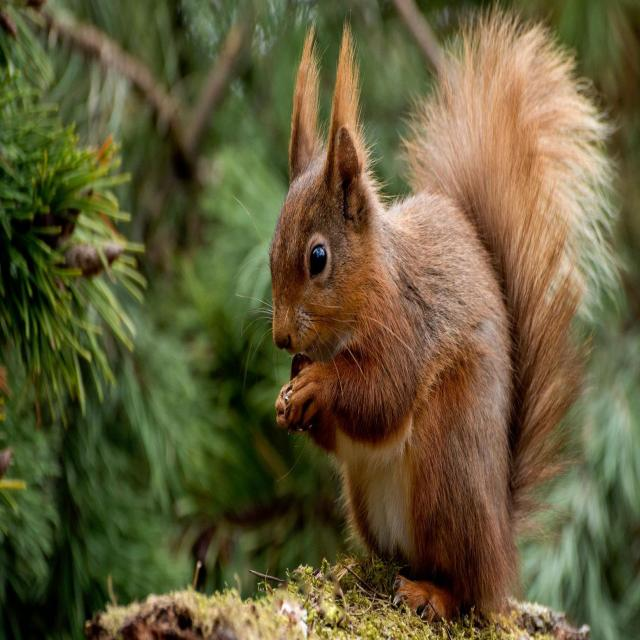Squirrel: (267, 17, 588, 623)
